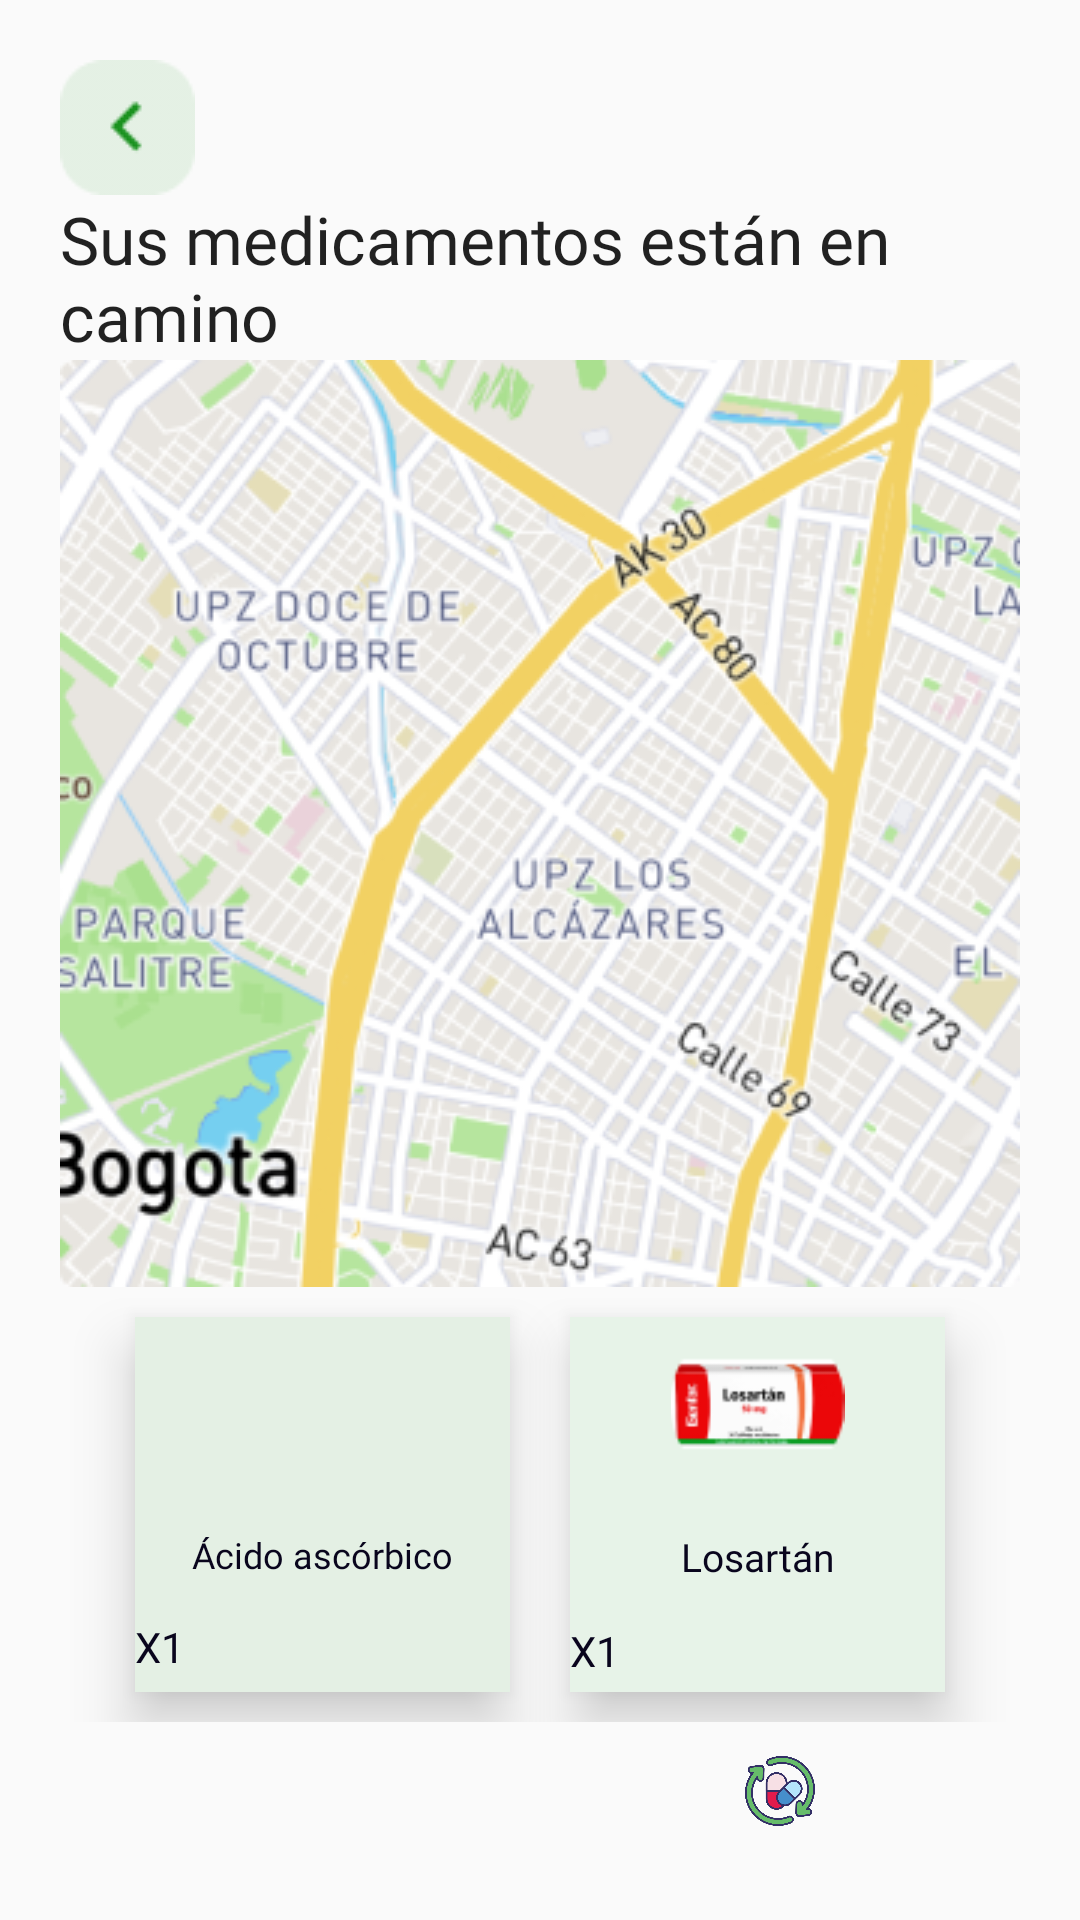

Named icons in this screenshot (1080 x 1920) and their bounding boxes, (x1, y1, x2, y2):
recyclepills: (745, 1756, 815, 1826)
Retornar: (110, 101, 142, 154)
